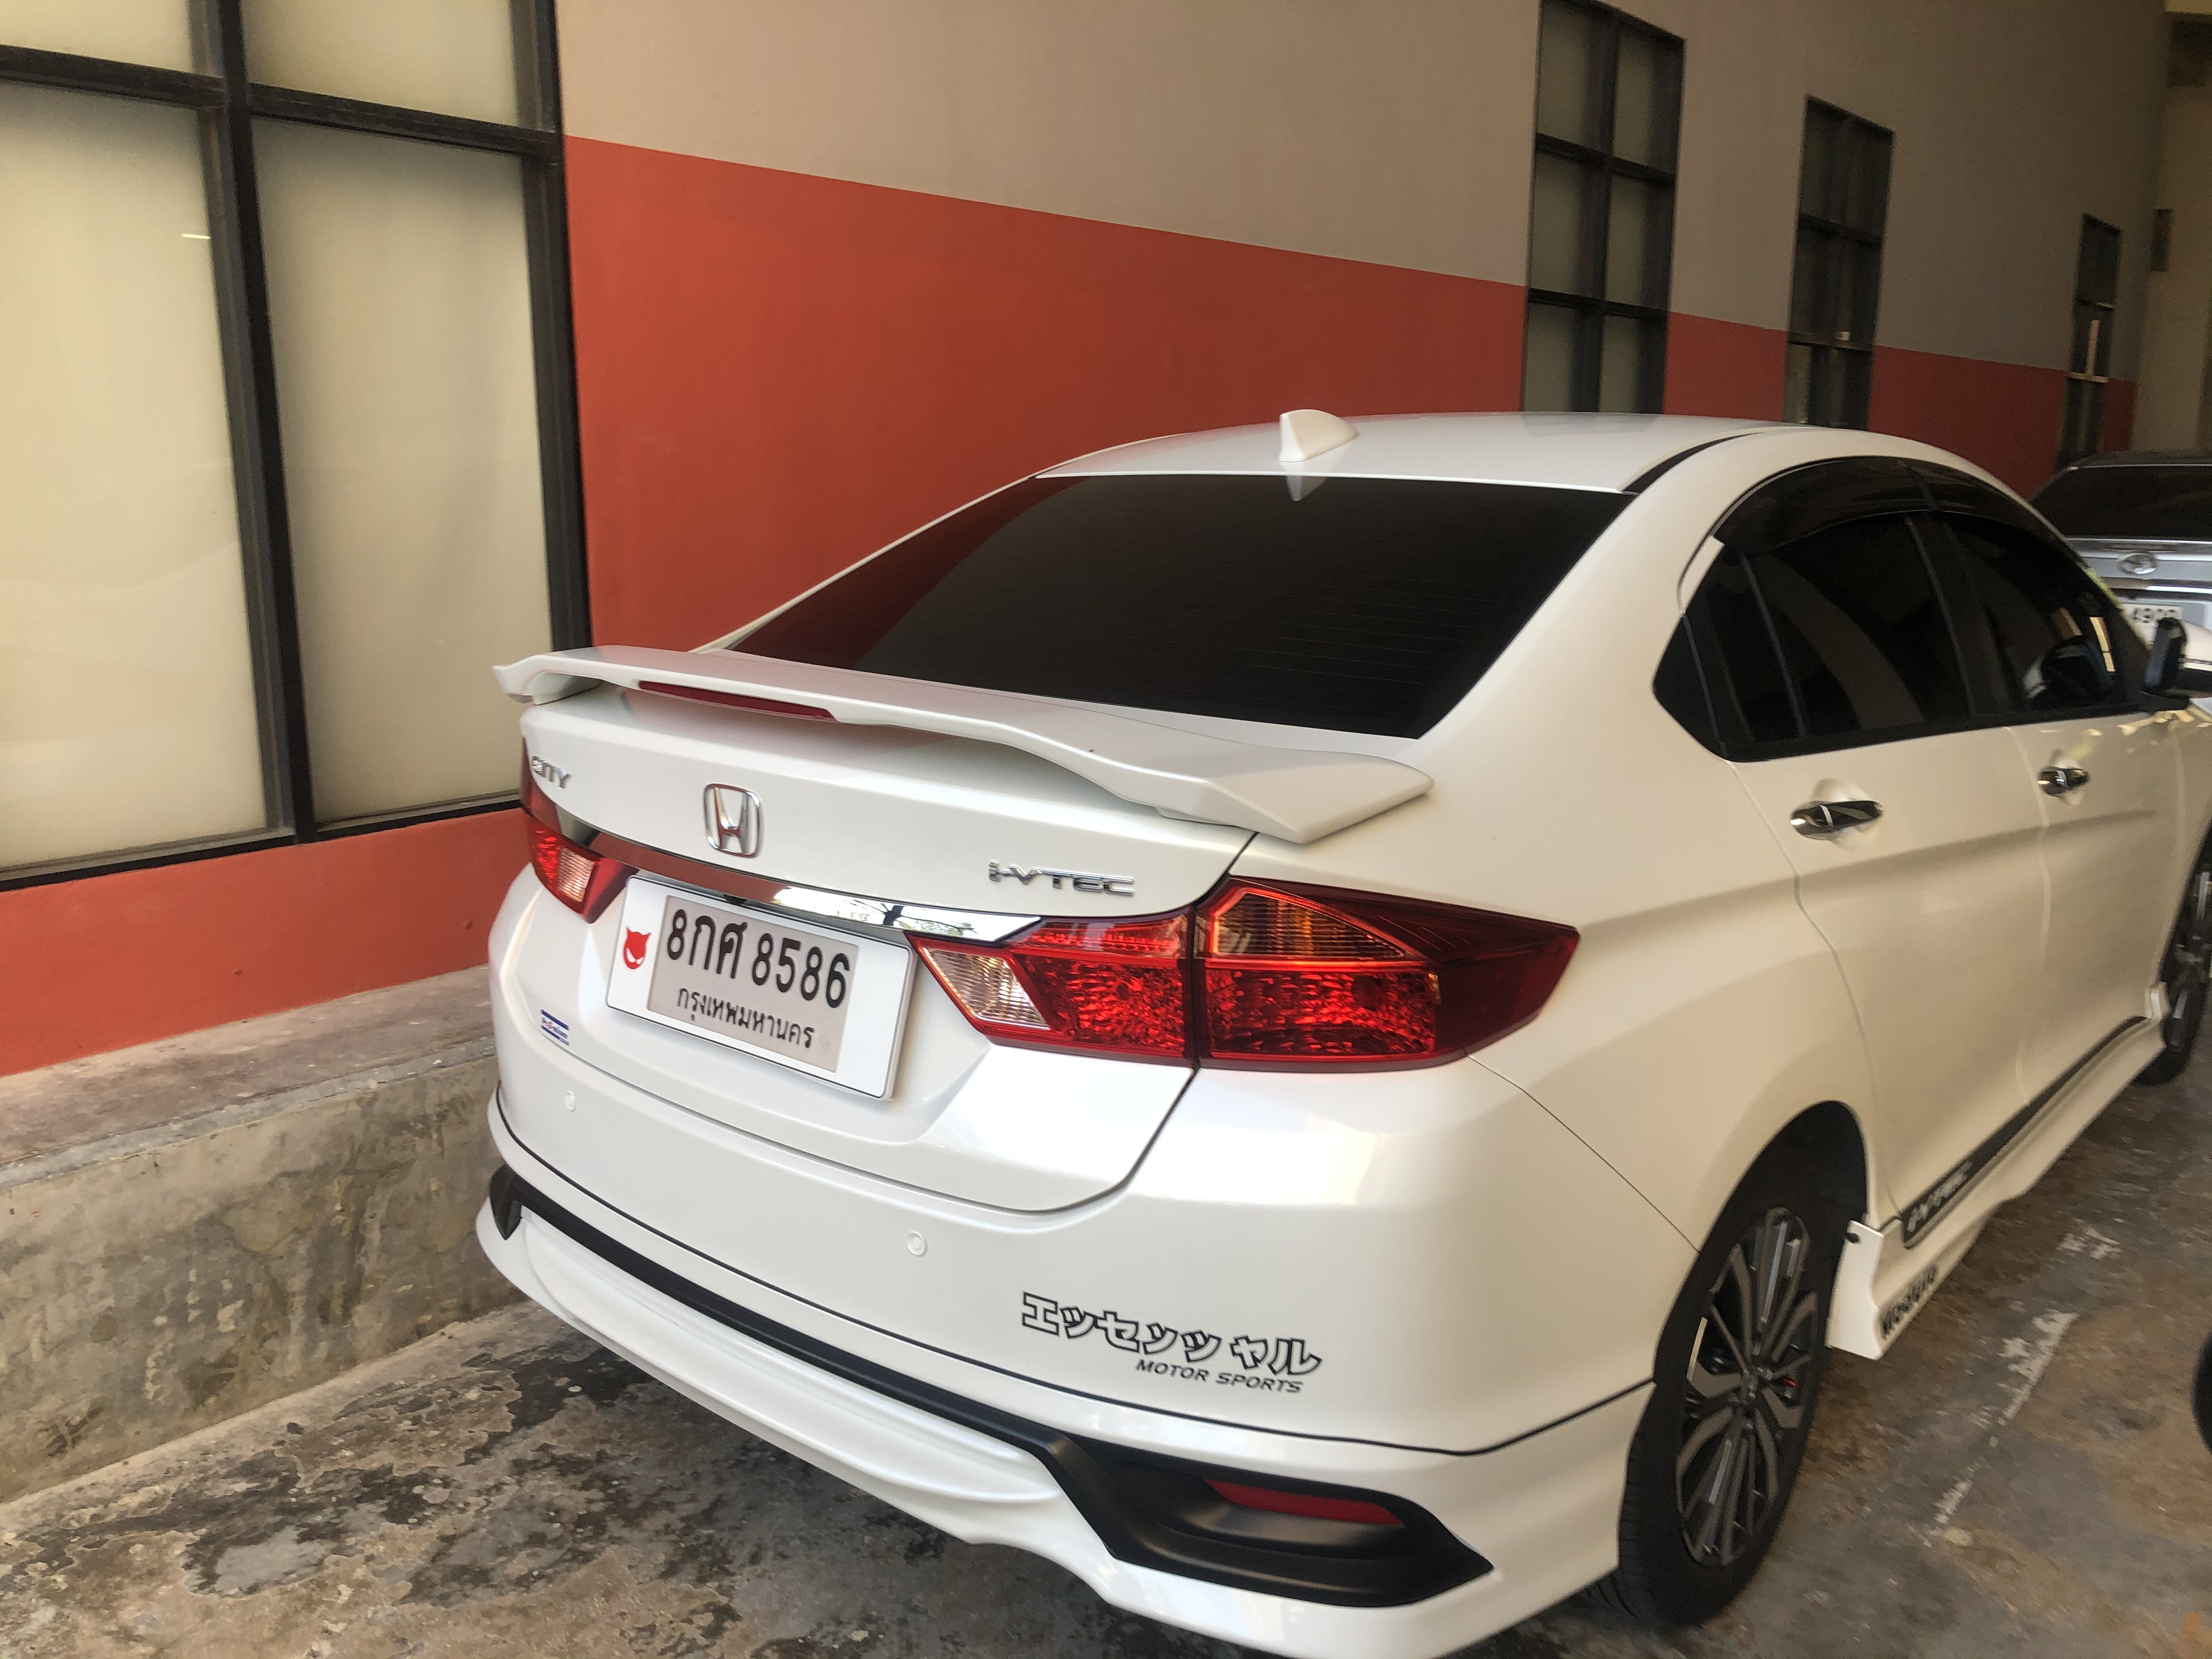in: (646, 890, 860, 1075)
out: (608, 877, 909, 1103)
